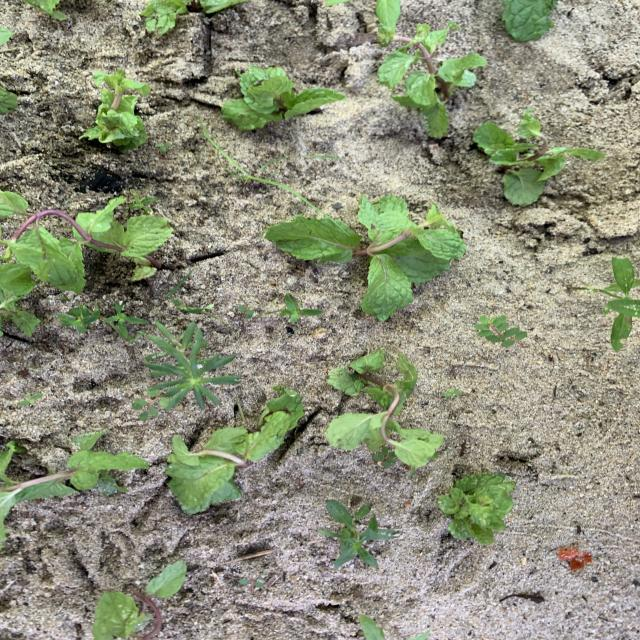crop: (268, 194, 466, 319), (165, 387, 303, 513), (0, 193, 172, 293), (0, 433, 146, 546), (327, 352, 443, 472), (377, 23, 486, 138), (473, 112, 604, 205), (222, 67, 345, 130), (94, 562, 186, 639), (81, 70, 150, 149), (438, 473, 515, 543), (142, 1, 244, 34), (0, 262, 39, 335), (502, 0, 556, 40), (27, 1, 66, 19)
weed: (204, 126, 315, 207), (145, 322, 240, 410), (582, 257, 640, 351), (319, 502, 397, 567), (475, 316, 527, 347), (281, 295, 322, 323), (56, 305, 100, 331), (167, 268, 193, 295), (98, 472, 127, 495), (172, 299, 214, 314), (130, 192, 158, 213), (238, 573, 266, 590), (20, 393, 43, 405), (238, 305, 254, 318), (157, 142, 171, 153), (444, 389, 460, 397)
